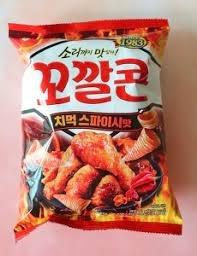snack: (7, 18, 184, 243)
